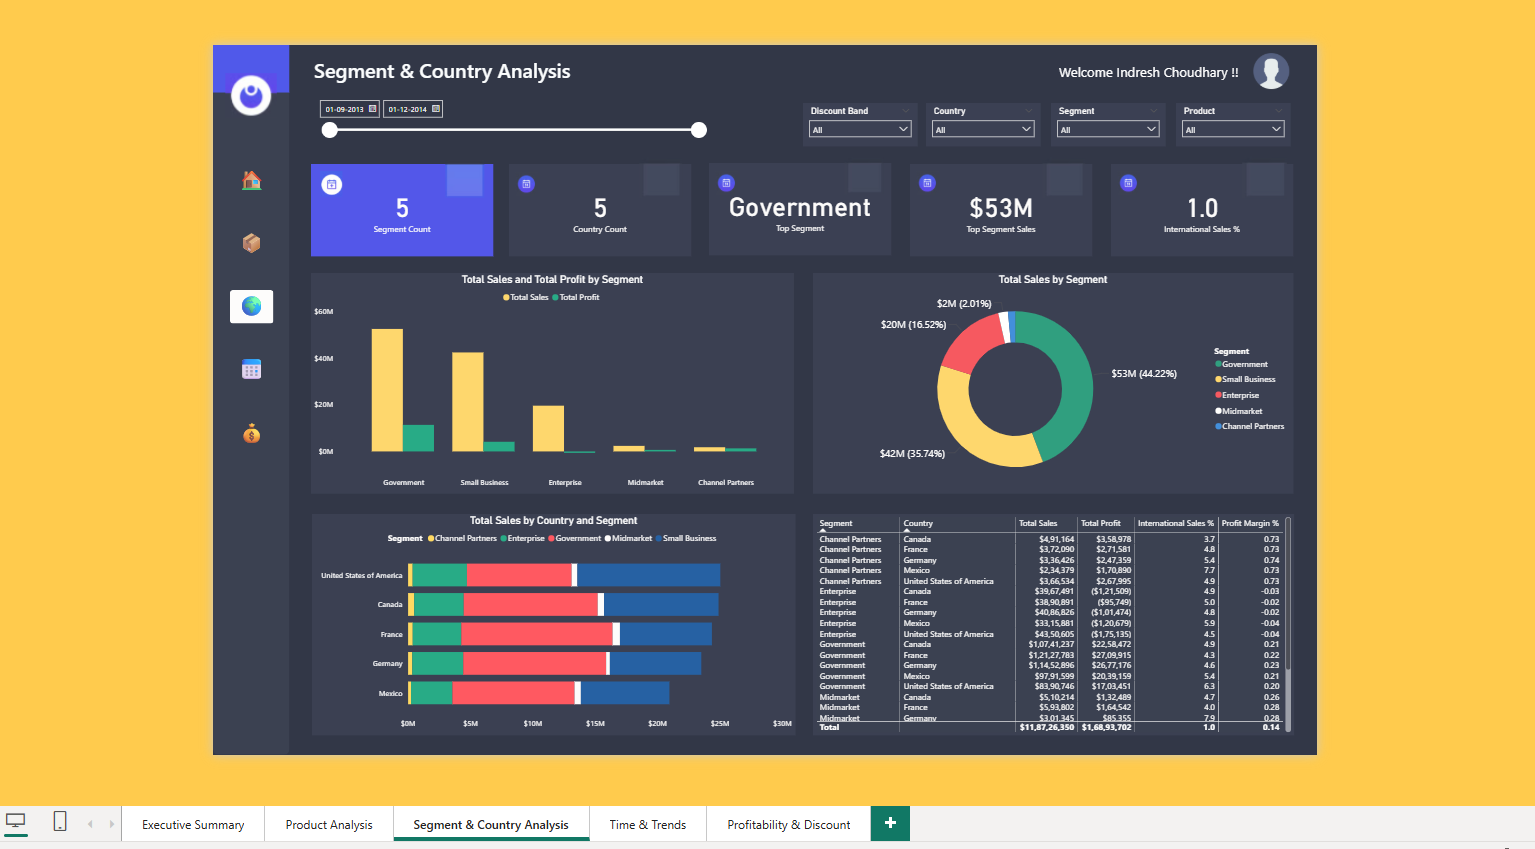

This screenshot's page, from the dashboard's own definition file:
{"tool":"powerbi","page":{"name":"Segment & Country Analysis","canvas":[1780,1145],"ordinal":2},"visuals":[{"type":"shape","box":[0,51.7,123.3,1093.3],"z":0},{"type":"slicer","fields":{"Values":["Product.Product"]},"box":[1553.4,93.9,185,70],"z":0,"group":"g7"},{"type":"card","fields":{"Values":["All Measures.Top Segment"]},"box":[800.4,190.8,293.9,149.1],"z":0,"group":"g3"},{"type":"card","fields":{"Values":["All Measures.Top Segment Sales"]},"box":[1124.8,190.8,293.9,149.1],"z":0,"group":"g4"},{"type":"card","fields":{"Values":["All Measures.Segment Count"]},"box":[158.1,191.4,293.9,149.1],"z":0,"group":"g1"},{"type":"card","fields":{"Values":["All Measures.Country Count"]},"box":[477,191.4,293.9,149.1],"z":0,"group":"g2"},{"type":"card","fields":{"Values":["All Measures.International Sales %"]},"box":[1448.3,192.3,293.9,149.1],"z":0,"group":"g5"},{"type":"shape","box":[0,0,123.3,76.7],"z":1000},{"type":"slicer","fields":{"Values":["Segment.Segment"]},"box":[1351.7,93.9,185,70],"z":1000,"group":"g7"},{"type":"image","box":[1649.4,174.6,92.1,77.8],"z":1000,"group":"g5"},{"type":"image","box":[672.2,175.1,98.4,76.2],"z":1000,"group":"g2"},{"type":"image","box":[1006.1,175.5,87.3,69.8],"z":1000,"group":"g3"},{"type":"image","box":[1326.6,175.5,92.1,76.2],"z":1000,"group":"g4"},{"type":"image","box":[359.7,180.5,92.1,71.4],"z":1000,"group":"g1"},{"type":"textbox","box":[158.3,13.3,465,68.3],"z":2000},{"type":"slicer","fields":{"Values":["Country.Country"]},"box":[1150,93.9,185,70],"z":2000,"group":"g7"},{"type":"image","box":[800.4,198.1,57.3,47.9],"z":2000,"group":"g3"},{"type":"image","box":[1124.8,198.1,57.3,47.9],"z":2000,"group":"g4"},{"type":"image","box":[167.5,198.7,45.9,52.1],"z":2000,"group":"g1"},{"type":"image","box":[477,198.7,57.3,47.9],"z":2000,"group":"g2"},{"type":"image","box":[1448.3,199.6,57.3,47.9],"z":2000,"group":"g5"},{"type":"image","box":[1671.3,8.8,71.7,68.3],"z":3000,"group":"g6"},{"type":"image","box":[13.3,40,96.7,81.7],"z":3000},{"type":"slicer","fields":{"Values":["Discount Band.Discount Band"]},"box":[951.7,93.9,185,70],"z":3000,"group":"g7"},{"type":"shape","box":[1345.2,20.9,328.3,46.7],"z":4000,"group":"g6"},{"type":"group","id":"g1","title":"Group 1","box":[158.1,180.5,293.9,160],"z":4000},{"type":"shape","box":[26.7,190,70,54],"z":5000},{"type":"group","id":"g2","title":"Group 2","box":[477,175.1,293.9,165.3],"z":6000},{"type":"group","id":"g3","title":"Group 2","box":[800.4,175.5,293.9,164.3],"z":7000},{"type":"shape","box":[26.7,292.8,70,54],"z":8000},{"type":"group","id":"g4","title":"Group 2","box":[1124.8,175.5,293.9,164.4],"z":9000},{"type":"shape","box":[26.7,395,70,54],"z":10000},{"type":"group","id":"g5","title":"Group 2","box":[1448.3,174.6,293.9,166.7],"z":11000},{"type":"group","id":"g6","title":"Group 3","box":[1345.2,8.8,397.8,68.3],"z":12000},{"type":"shape","box":[26.7,497.2,70,54],"z":13000},{"type":"shape","box":[26.7,599.4,70,54],"z":14000},{"type":"clusteredColumnChart","fields":{"Category":["Segment.Segment"],"Y":["All Measures.Total Sales","All Measures.Total Profit"]},"box":[158.6,368.5,778.8,355.8],"z":15000},{"type":"donutChart","fields":{"Category":["Segment.Segment"],"Y":["All Measures.Total Sales"]},"box":[968.2,368.5,774.6,355.8],"z":16000},{"type":"tableEx","fields":{"Values":["Segment.Segment","Country.Country","All Measures.Total Sales","All Measures.Total Profit","All Measures.International Sales %","All Measures.Profit Margin %"]},"box":[968.3,756.9,775.9,356.5],"z":17000},{"type":"barChart","fields":{"Y":["All Measures.Total Sales"],"Category":["Country.Country"],"Series":["Segment.Segment"]},"box":[159.2,756.9,779.6,356.5],"z":18000},{"type":"group","id":"g7","title":"Group 5","box":[951.7,93.9,786.7,70],"z":19000},{"type":"slicer","fields":{"Values":["Calendar.Date"]},"box":[160,78.3,645,96.7],"z":20000}]}

Visuals, with their boxes on the page's 1780x1145 design canvas (x1, y1, x2, y2). These are canvas units, not pixel positions in the 1535x849 screenshot, which may show the page scaled, cropped or inside an application window:
shape: BBox(0, 52, 123, 1145)
slicer - Product.Product: BBox(1553, 94, 1738, 164)
card - All Measures.Top Segment: BBox(800, 191, 1094, 340)
card - All Measures.Top Segment Sales: BBox(1125, 191, 1419, 340)
card - All Measures.Segment Count: BBox(158, 191, 452, 340)
card - All Measures.Country Count: BBox(477, 191, 771, 340)
card - All Measures.International Sales %: BBox(1448, 192, 1742, 341)
shape: BBox(0, 0, 123, 77)
slicer - Segment.Segment: BBox(1352, 94, 1537, 164)
image: BBox(1649, 175, 1742, 252)
image: BBox(672, 175, 771, 251)
image: BBox(1006, 176, 1093, 245)
image: BBox(1327, 176, 1419, 252)
image: BBox(360, 180, 452, 252)
textbox: BBox(158, 13, 623, 82)
slicer - Country.Country: BBox(1150, 94, 1335, 164)
image: BBox(800, 198, 858, 246)
image: BBox(1125, 198, 1182, 246)
image: BBox(168, 199, 213, 251)
image: BBox(477, 199, 534, 247)
image: BBox(1448, 200, 1506, 248)
image: BBox(1671, 9, 1743, 77)
image: BBox(13, 40, 110, 122)
slicer - Discount Band.Discount Band: BBox(952, 94, 1137, 164)
shape: BBox(1345, 21, 1674, 68)
"Group 1" group: BBox(158, 180, 452, 340)
shape: BBox(27, 190, 97, 244)
"Group 2" group: BBox(477, 175, 771, 340)
"Group 2" group: BBox(800, 176, 1094, 340)
shape: BBox(27, 293, 97, 347)
"Group 2" group: BBox(1125, 176, 1419, 340)
shape: BBox(27, 395, 97, 449)
"Group 2" group: BBox(1448, 175, 1742, 341)
"Group 3" group: BBox(1345, 9, 1743, 77)
shape: BBox(27, 497, 97, 551)
shape: BBox(27, 599, 97, 653)
clusteredColumnChart - Segment.Segment x All Measures.Total Sales: BBox(159, 368, 937, 724)
donutChart - Segment.Segment x All Measures.Total Sales: BBox(968, 368, 1743, 724)
tableEx - Segment.Segment x Country.Country: BBox(968, 757, 1744, 1113)
barChart - All Measures.Total Sales x Country.Country: BBox(159, 757, 939, 1113)
"Group 5" group: BBox(952, 94, 1738, 164)
slicer - Calendar.Date: BBox(160, 78, 805, 175)
